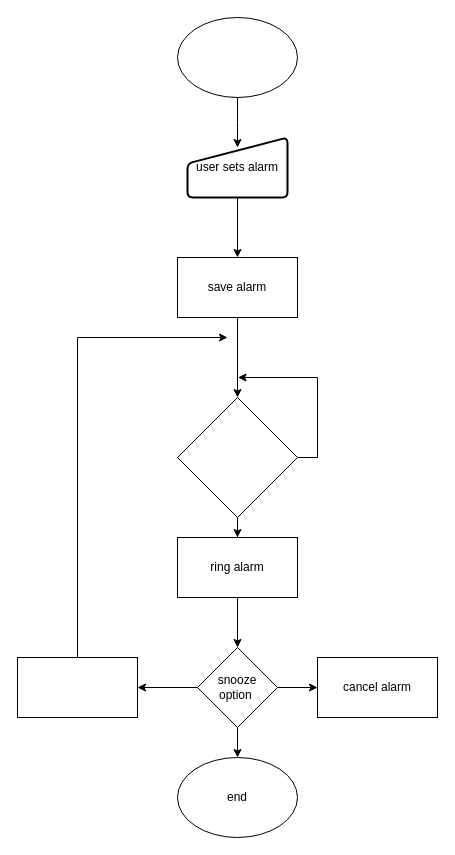
This 455x855 diagram has some shape labels left out. The centre of each missing label's shape, as x and y in pixels:
add snooze minutes: point 77,687
check alarm time vs current time: point 237,457
start: point 237,57
